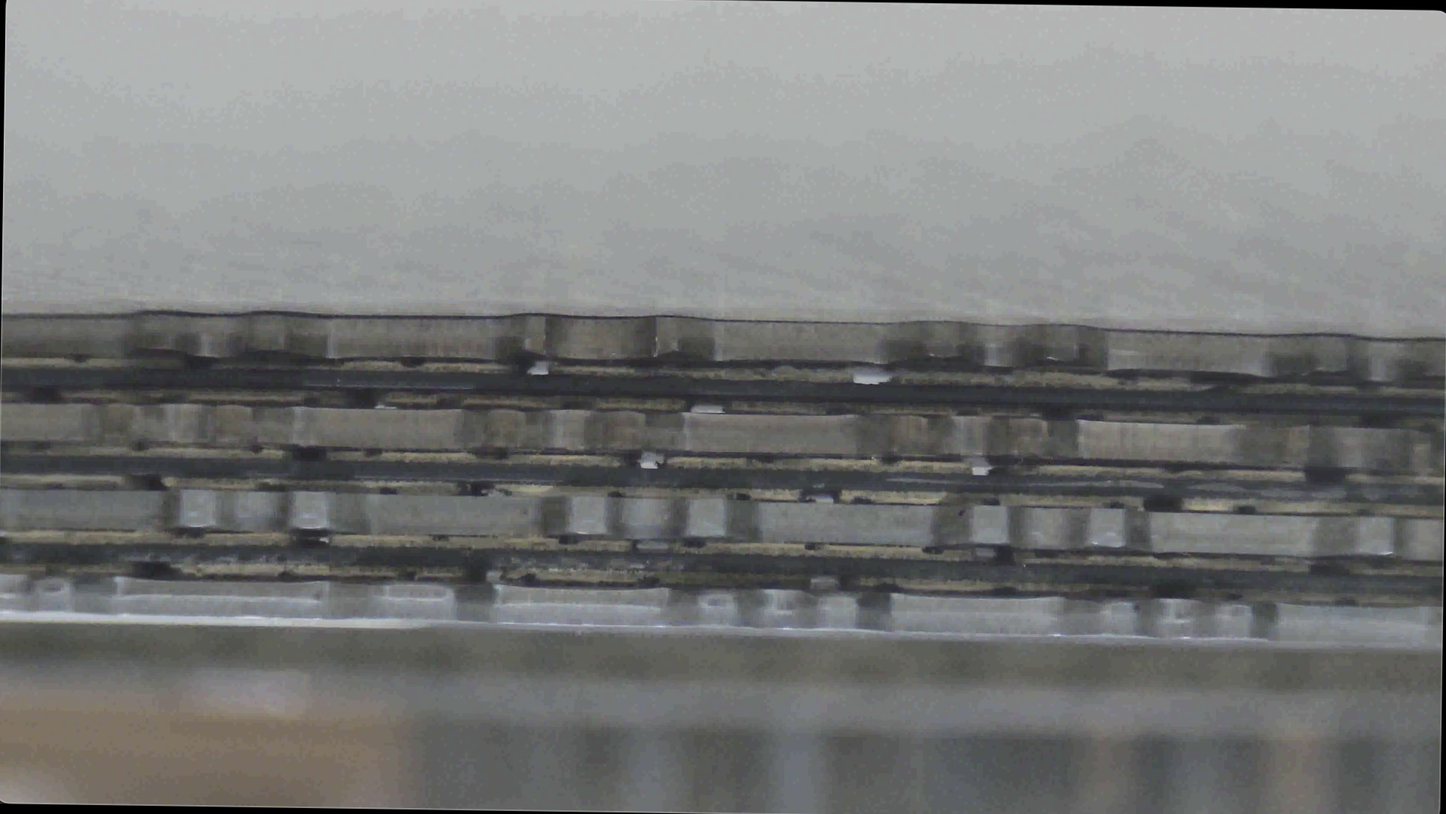Black metal plate: (1, 312, 1446, 387)
shiney metal plate: (0, 174, 1445, 231), (4, 264, 1445, 318), (17, 353, 1445, 403)
spacer: (0, 213, 1442, 271), (0, 463, 1445, 494), (0, 375, 1445, 406)
